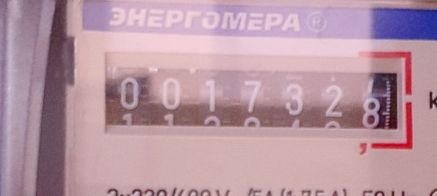0: (119, 74, 141, 111), (161, 77, 181, 110)
1: (203, 77, 219, 113)
2: (322, 84, 343, 120)
3: (282, 82, 305, 117)
7: (240, 77, 264, 115)
8: (360, 95, 380, 130)
screen: (94, 49, 417, 153)
